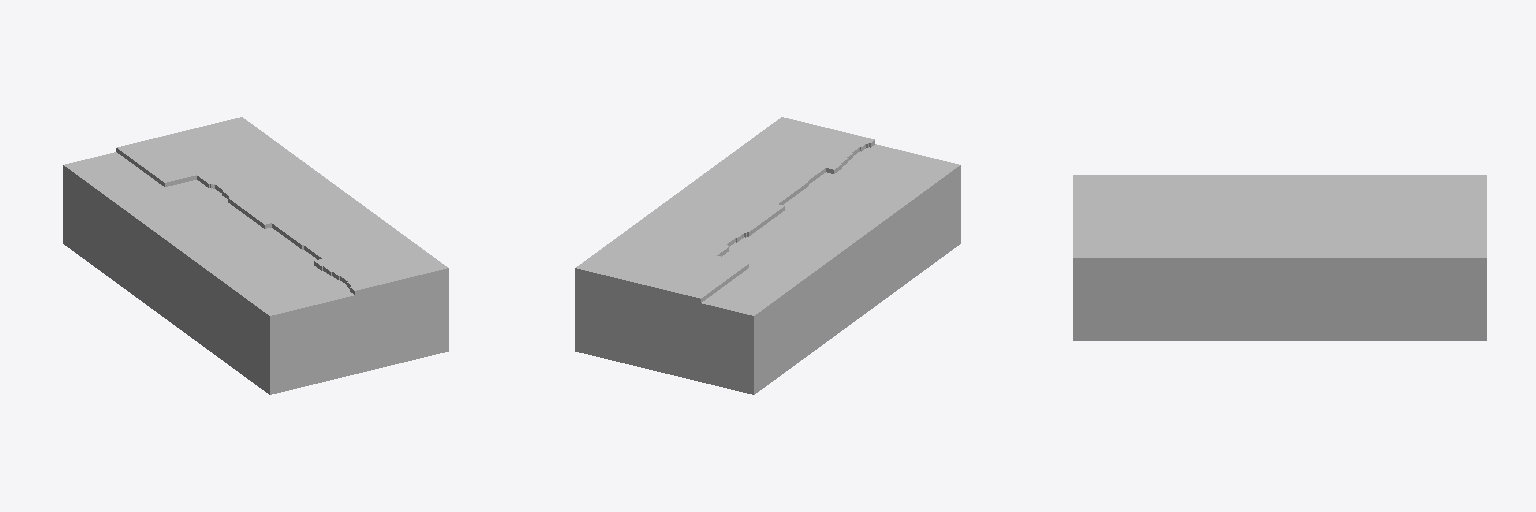
Rendered from Sunkeny City -  Voxel Desert-14-water 3.obj.
3 views of the same model, side by side, from view 1: azimuth 30°, elevation 25°; view 2: azimuth 150°, elevation 25°; view 3: azimuth 270°, elevation 25° (orthographic).
Parts seen in each view (by area): view 1: water 3; view 2: water 3; view 3: water 3.
Boxes of the visible parts, x1=… form: water 3: x1=63, y1=117, x2=448, y2=394; water 3: x1=575, y1=117, x2=960, y2=394; water 3: x1=1073, y1=175, x2=1486, y2=340.
Bounding box in the file's own units: 12.8 × 5.7 × 25.6.